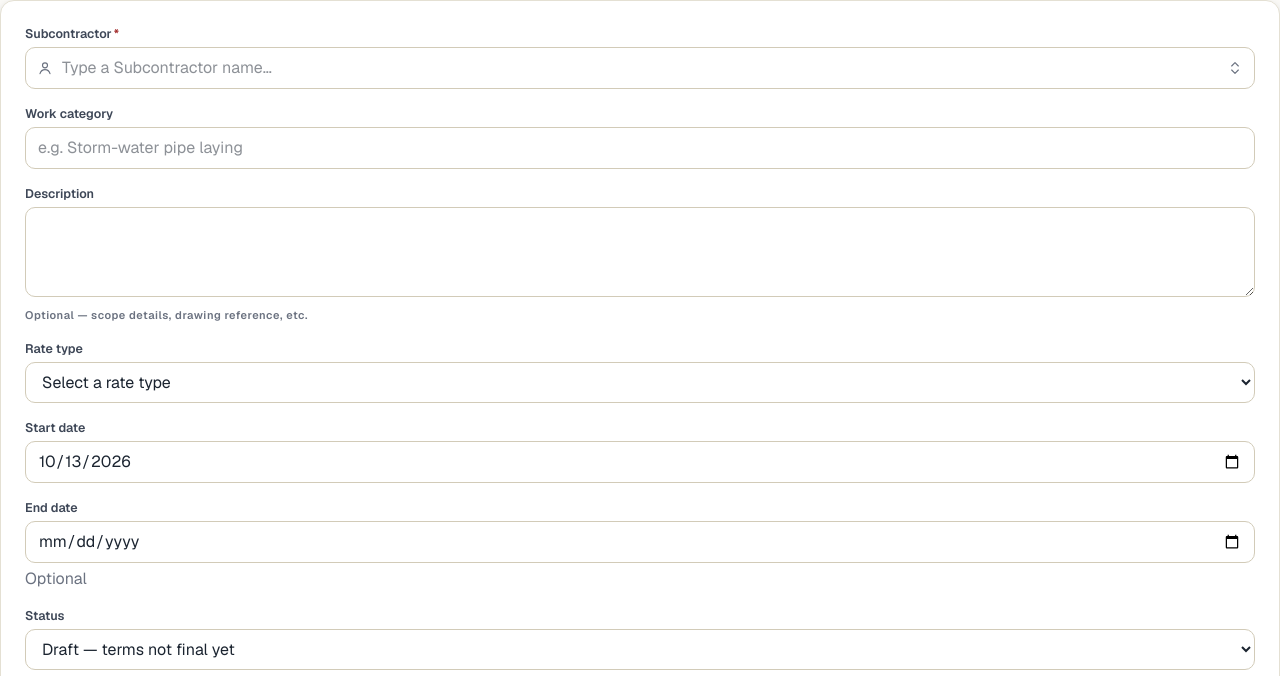
Test: SiteContractForm › shows the Fixed Amount field, and hides the Rate/Estimated Quantity fields, when Fixed Cost is selected
Select "Fixed Cost" in the dropdown labelled "Rate type" at {"x": 640, "y": 382}, box [25,362,1255,403]
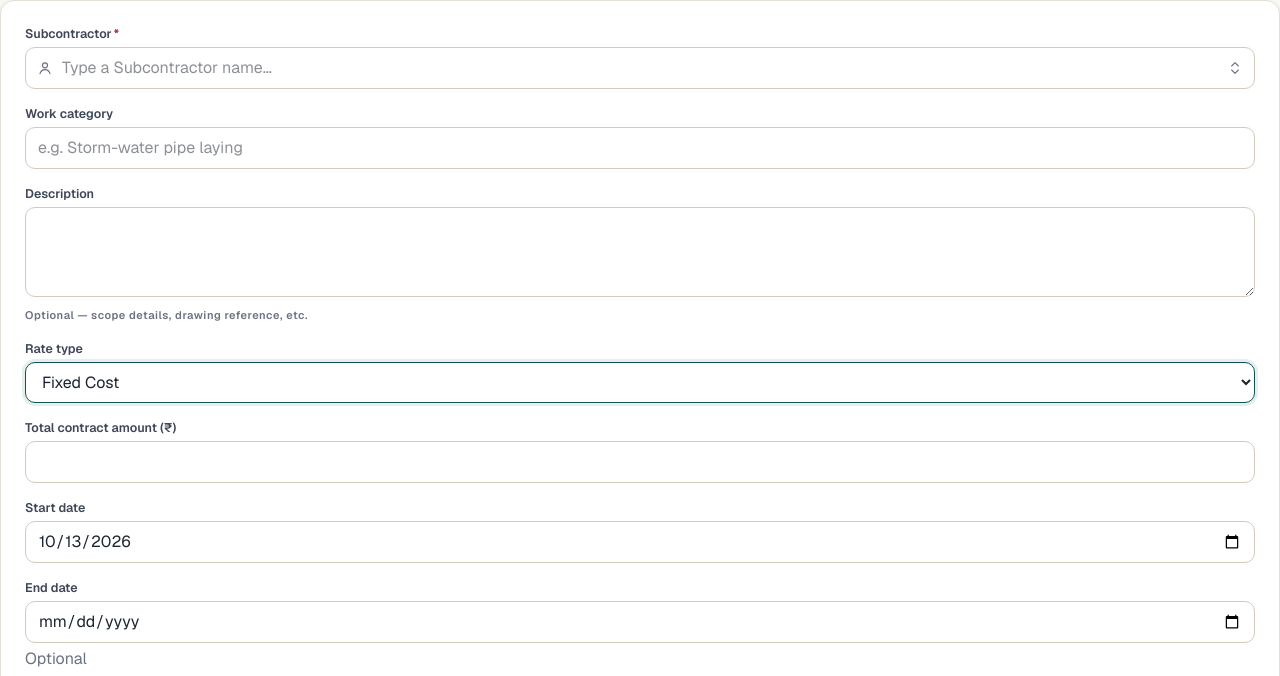
Check: the number field labelled "Total contract amount (₹)" is enabled, box [25,441,1255,483]
